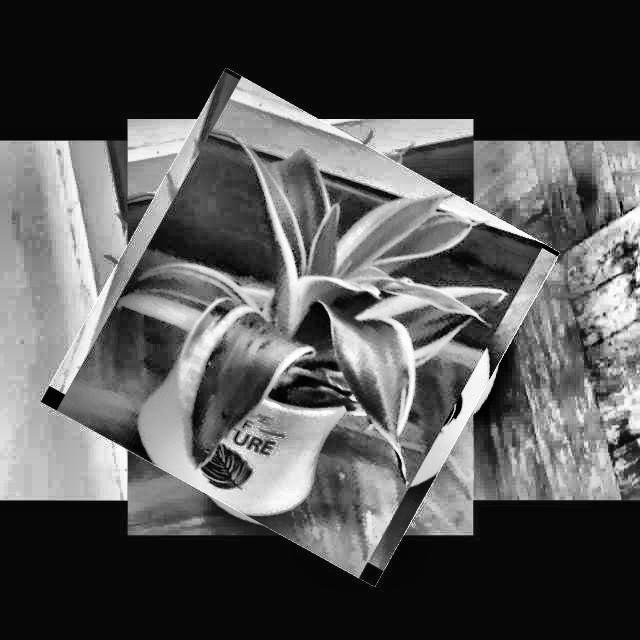plants: (75, 102, 526, 552)
